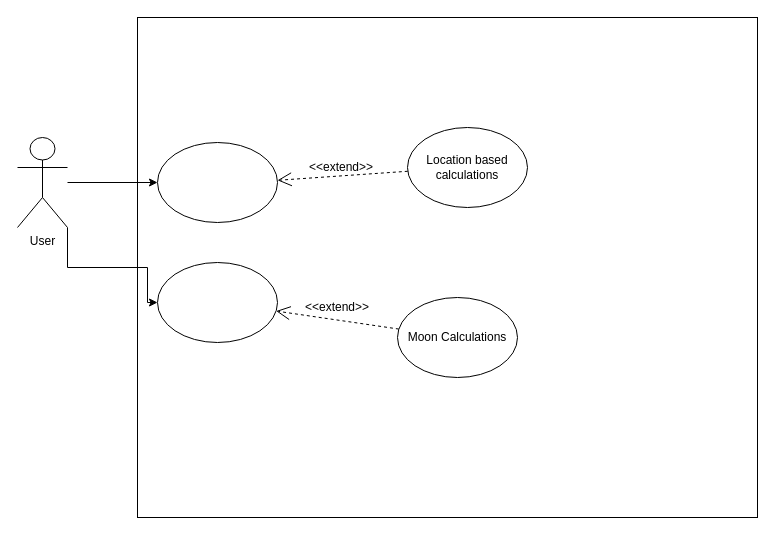
The diagram is 775 pixels wide and 535 high, and some of its shapes have lost their labels. Here are the shapes that lost their labels. From the top down, the box of each, then its label:
(156, 142, 278, 222): GPS input type
(156, 262, 278, 342): Manual Input Type
